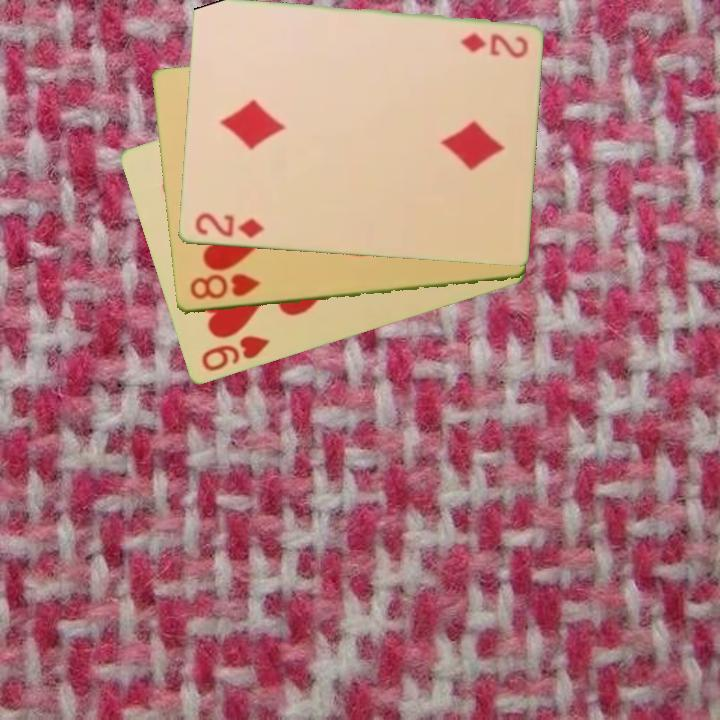2d: (191, 210, 267, 241), (456, 30, 531, 57)
8h: (186, 271, 263, 303)
9h: (198, 332, 273, 375)
